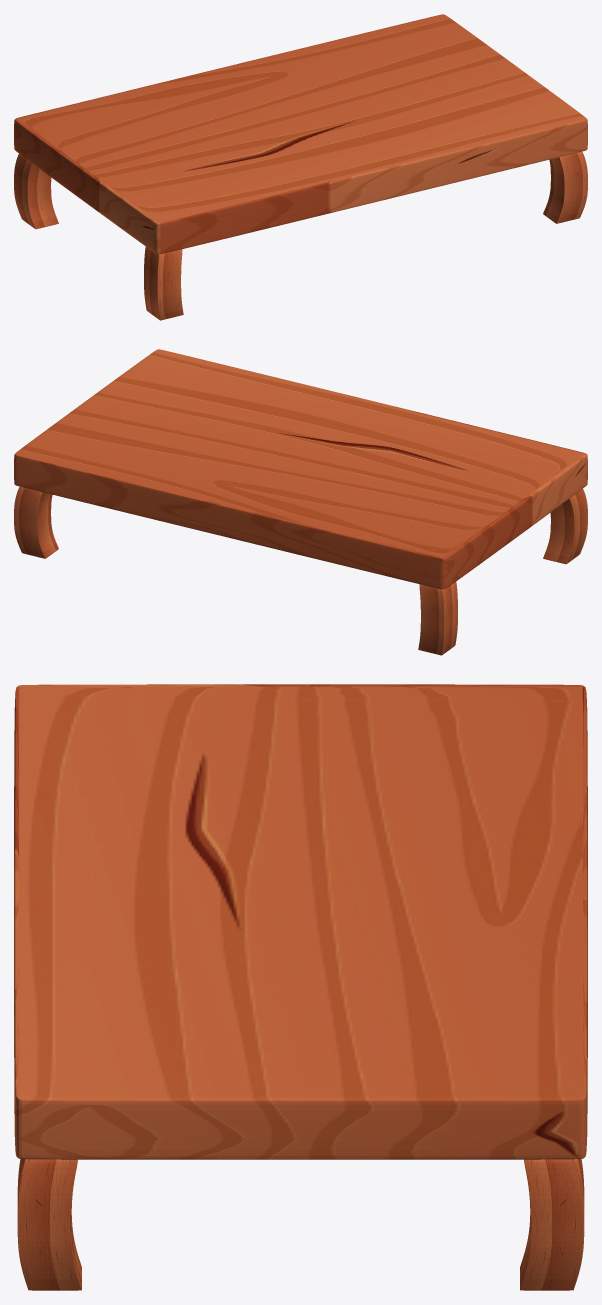
The model's file is tablebasse1.fbx.
The picture shows the model from 3 angles, top to bottom: view 1: azimuth 30°, elevation 25°; view 2: azimuth 150°, elevation 25°; view 3: azimuth 270°, elevation 25°; orthographic projection. The views are drawn at different scales.
Visible parts, largest first — view 1: Table, Pieds; view 2: Table, Pieds; view 3: Table, Pieds.
Boxes of the visible parts, bbox=[...] form: Table: bbox=[14, 14, 587, 254]; Pieds: bbox=[14, 151, 587, 320]; Table: bbox=[14, 349, 587, 589]; Pieds: bbox=[14, 486, 587, 655]; Table: bbox=[14, 684, 587, 1159]; Pieds: bbox=[17, 1159, 584, 1290].
Size of the model in its own units: 304 by 67.21 by 177.
1 material, 1 textured.
